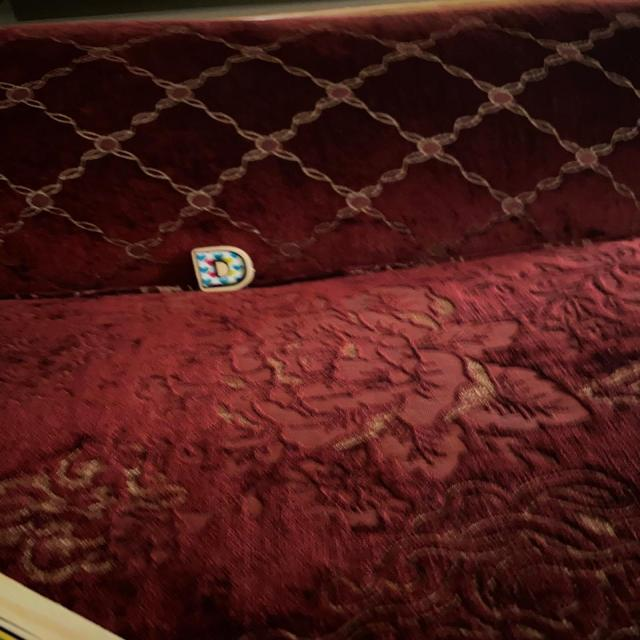D: (191, 246, 254, 291)
